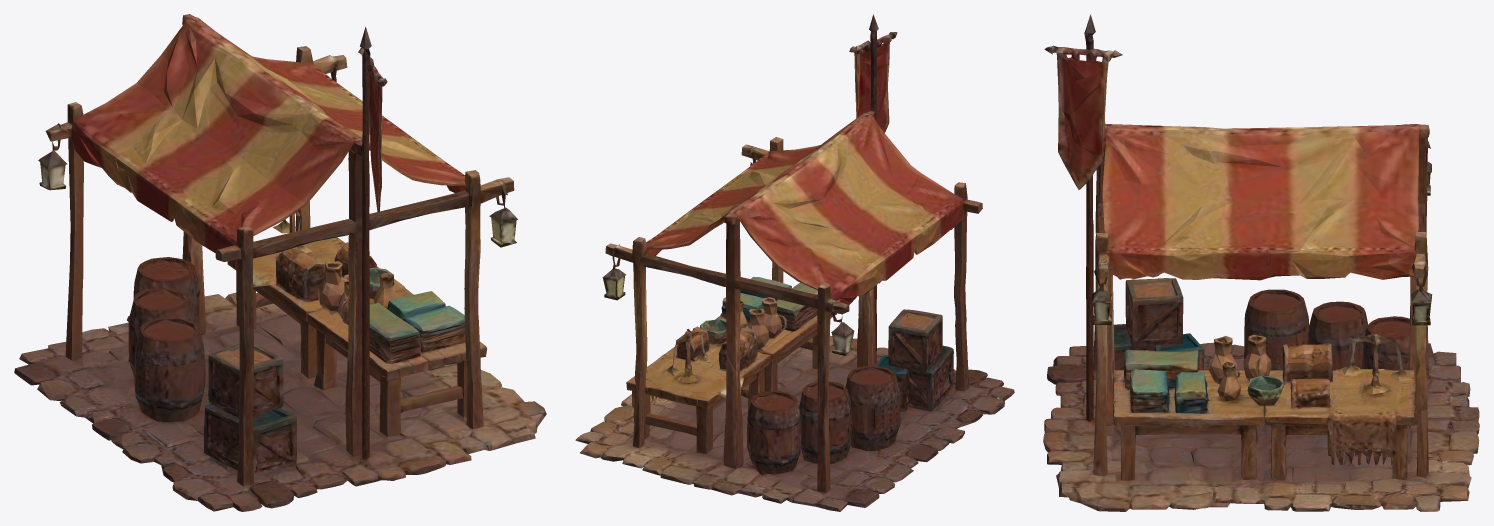
Rendered from market_t2.glb.
The picture shows the model from 3 angles, left to right: view 1: azimuth 30°, elevation 25°; view 2: azimuth 150°, elevation 25°; view 3: azimuth 270°, elevation 25°; orthographic projection. The views are drawn at different scales.
Parts seen in each view (by area): view 1: tripo_node_02bfaedf-af4a-4ae0-909c-ca4263084908; view 2: tripo_node_02bfaedf-af4a-4ae0-909c-ca4263084908; view 3: tripo_node_02bfaedf-af4a-4ae0-909c-ca4263084908.
Boxes of the visible parts, left/top/right/bottom form: tripo_node_02bfaedf-af4a-4ae0-909c-ca4263084908: left=14, top=14, right=546, bottom=511; tripo_node_02bfaedf-af4a-4ae0-909c-ca4263084908: left=575, top=14, right=1014, bottom=511; tripo_node_02bfaedf-af4a-4ae0-909c-ca4263084908: left=1043, top=14, right=1479, bottom=511.
Bounding box in the file's own units: 0.8403 × 0.9788 × 0.9363.
1 material, 1 textured.
